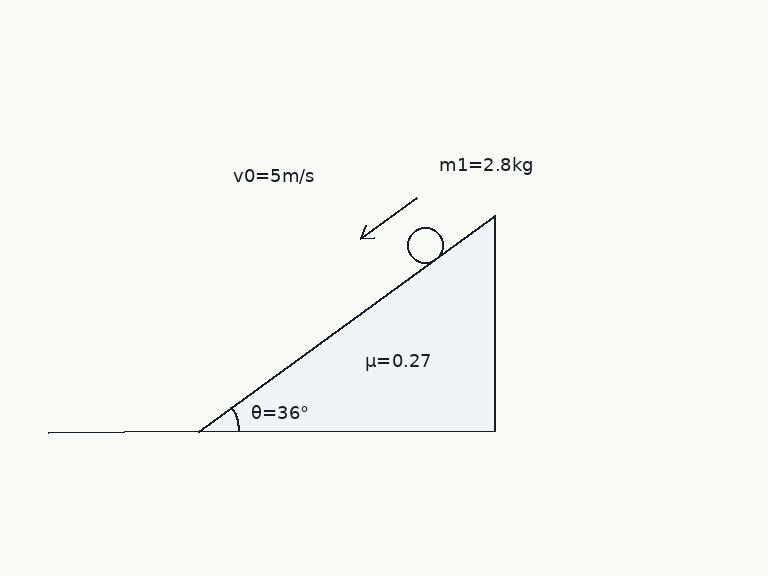ball: (405, 225, 445, 265)
ramp: (197, 214, 497, 433)
